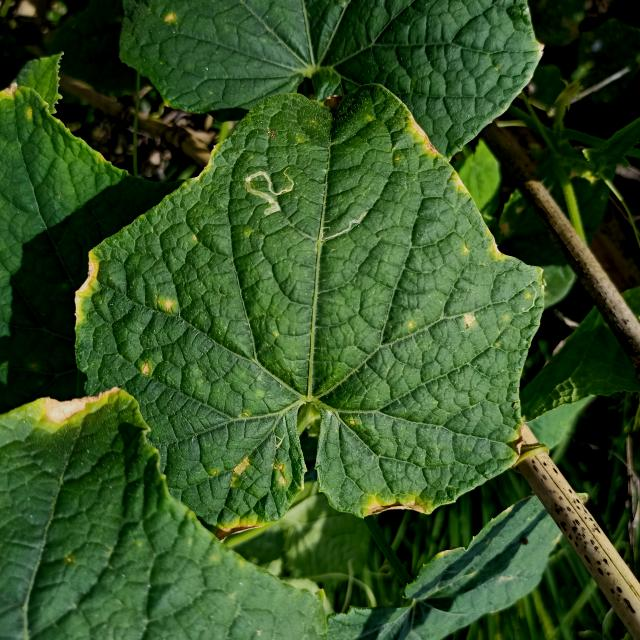disease_cucumber: (214, 449, 285, 540), (458, 232, 511, 268), (132, 358, 155, 378), (461, 311, 479, 333), (159, 292, 174, 313)
